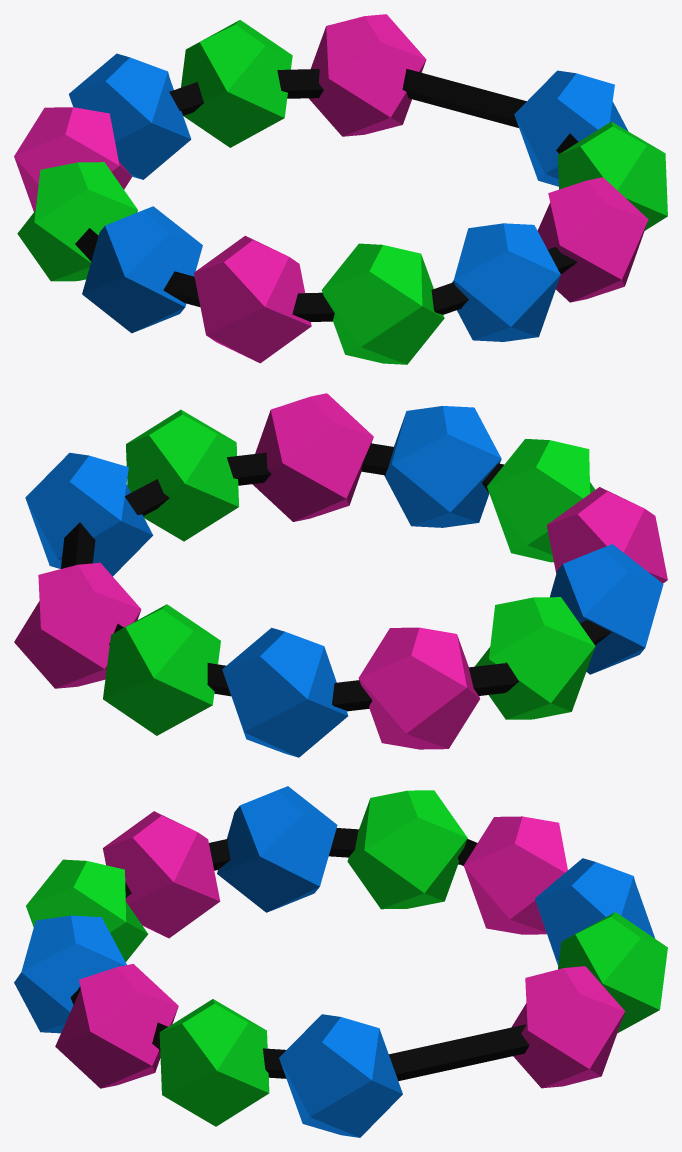
The model's file is Braclet_.fbx.
3 renders of one model, top to bottom at view 1: azimuth 30°, elevation 25°; view 2: azimuth 150°, elevation 25°; view 3: azimuth 270°, elevation 25°, orthographic. The views are drawn at different scales.
Visible parts, largest first — view 1: Braclet; view 2: Braclet; view 3: Braclet.
Part boxes in pixels (x1,y1,x2,y2): Braclet: [14, 14, 667, 364]; Braclet: [14, 393, 667, 757]; Braclet: [14, 786, 667, 1137].
Bounding box in the file's own units: 48.77 × 9.8 × 49.11.
